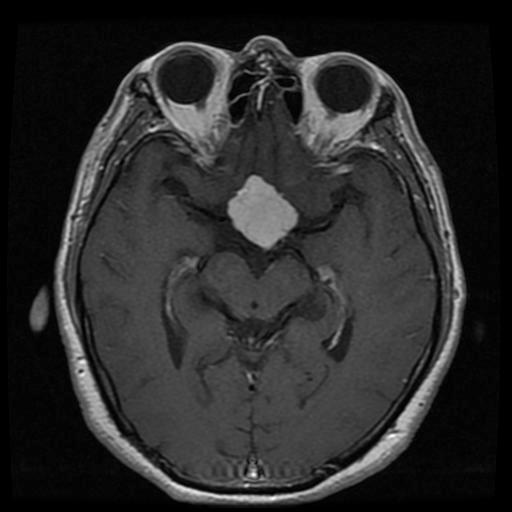Tumour-Meningioma: (196, 167, 315, 278)
